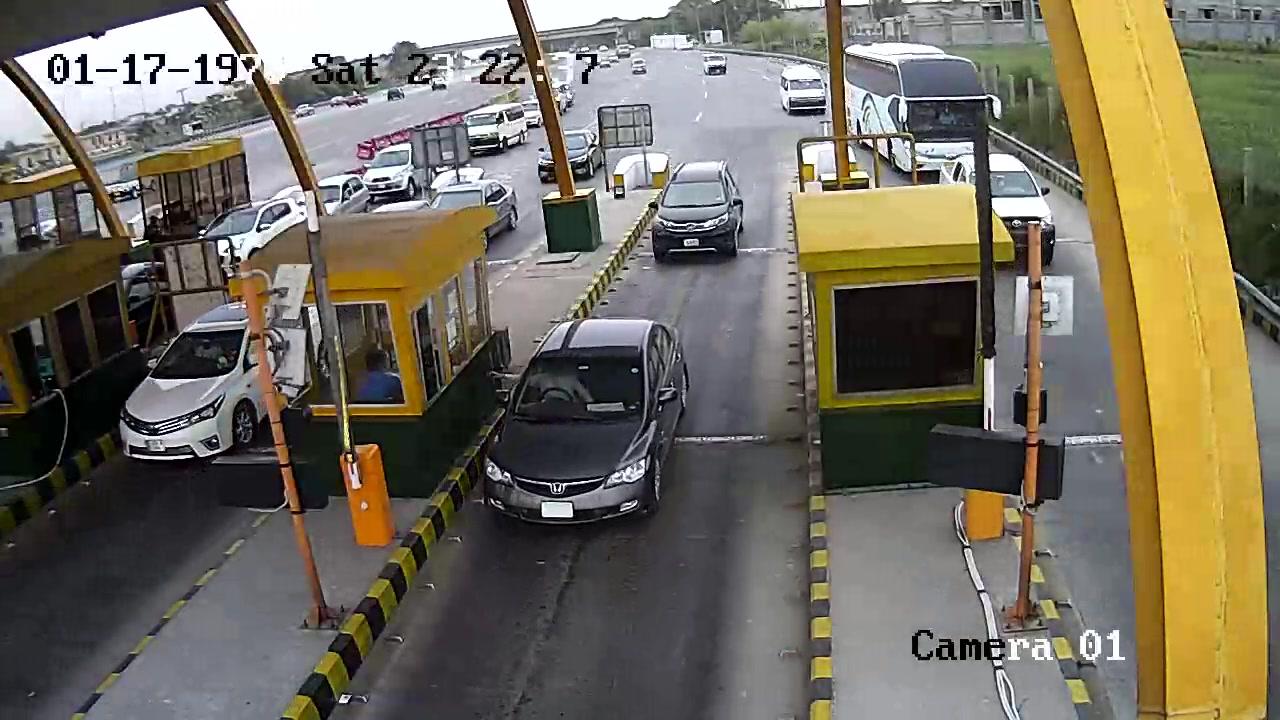F1: (481, 316, 696, 523)
